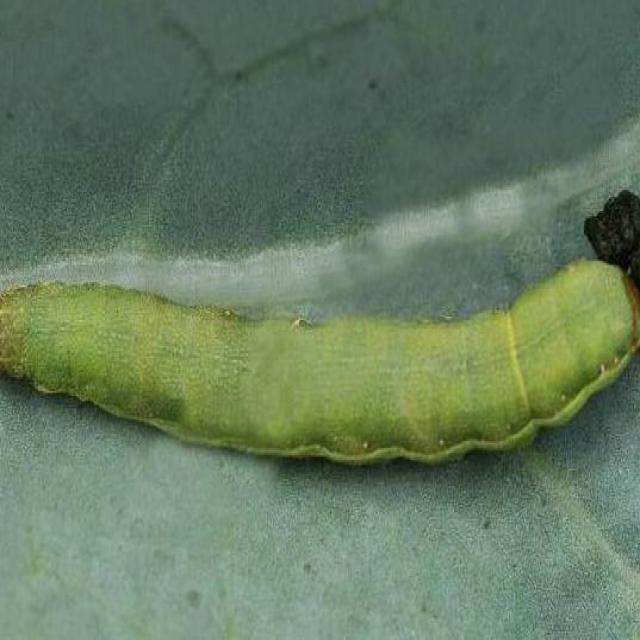BeetArmyWorm-Larva-: (1, 233, 638, 467)
